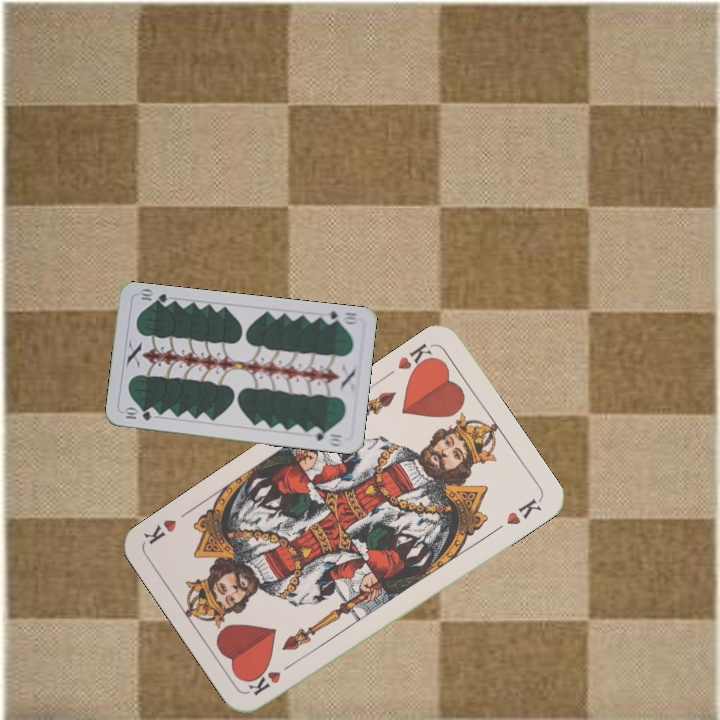G10: (320, 307, 361, 327), (121, 405, 154, 423)
HK: (245, 656, 299, 699), (393, 339, 440, 380)
